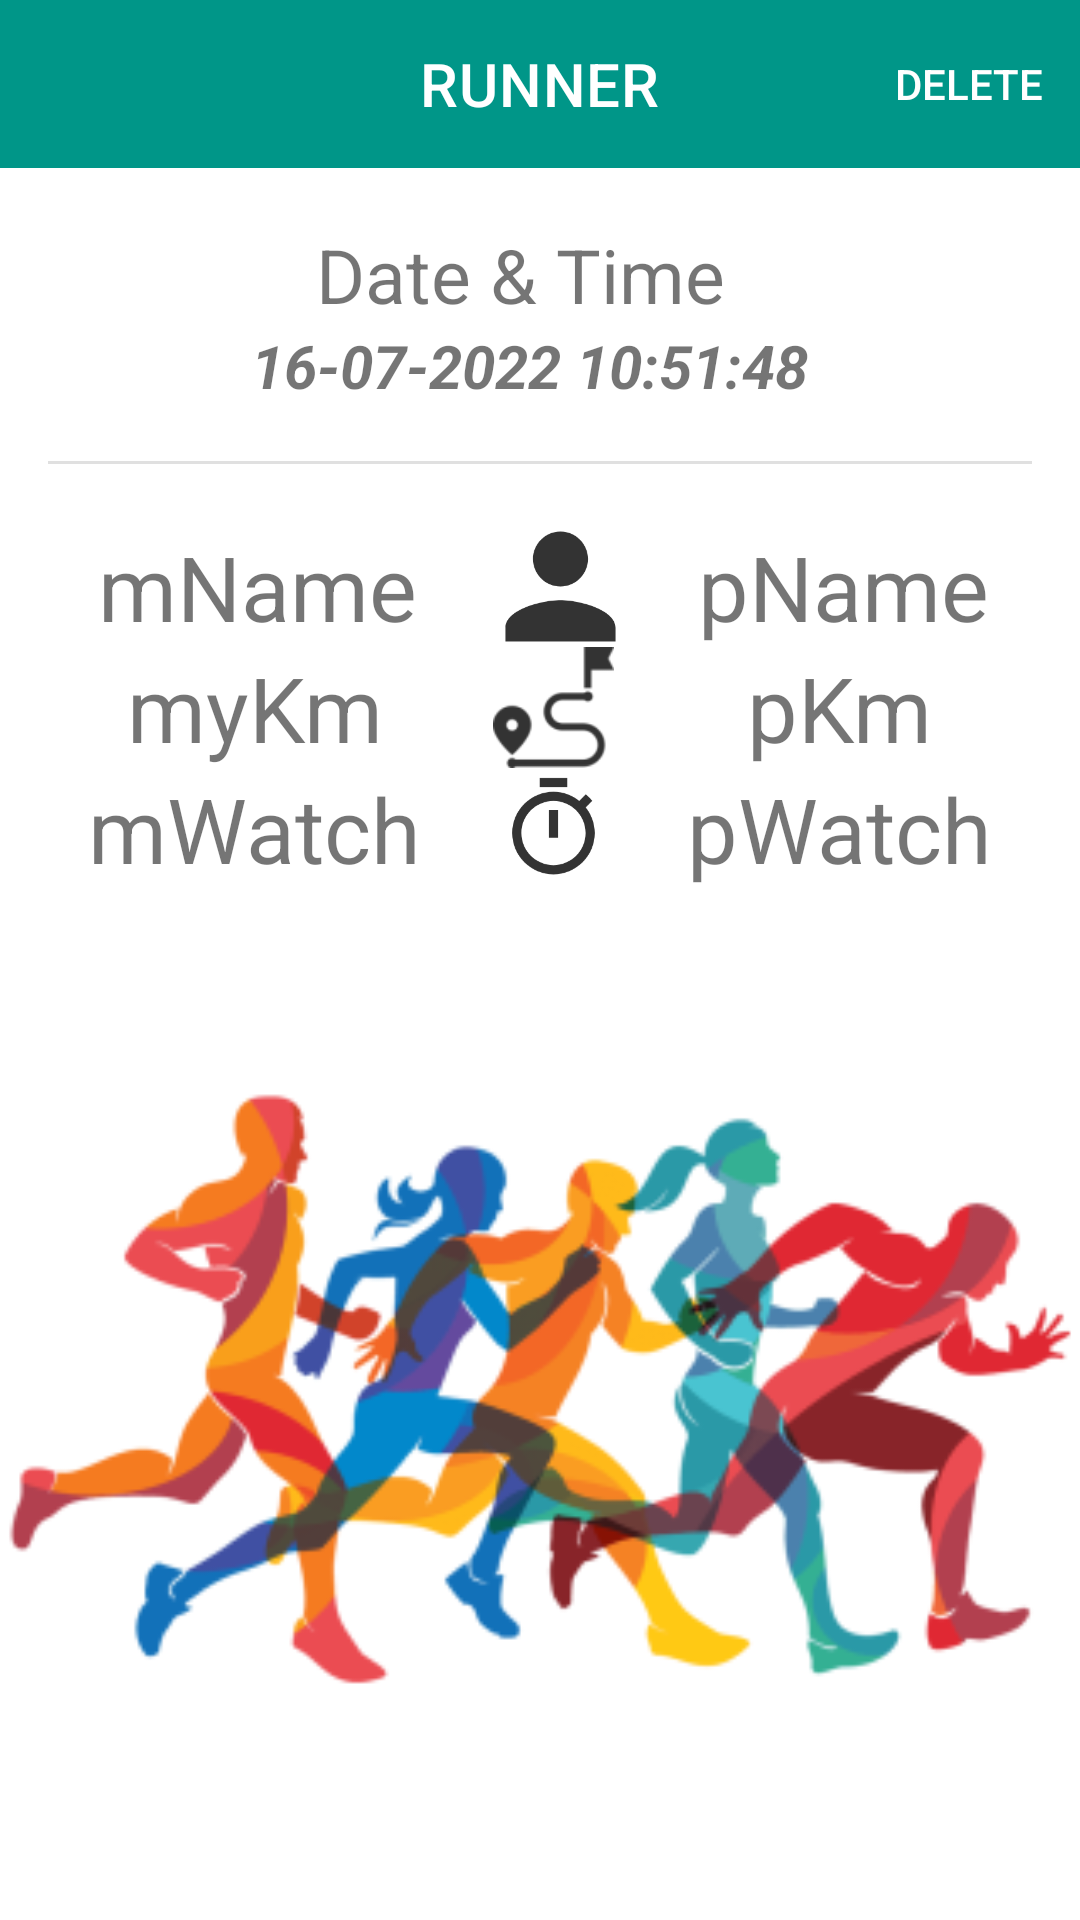

Named icons in this screenshot (1080×1920) and their centers, [x,y]:
human: [560,586]
road: [553,707]
timer: [553,826]
